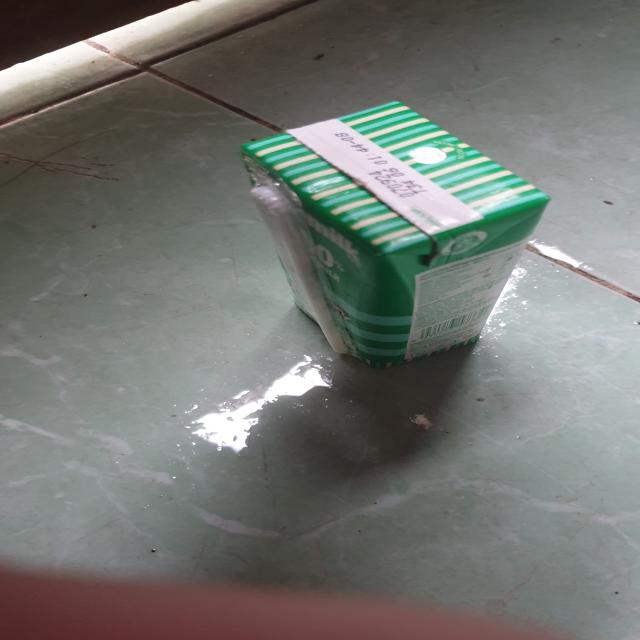Vina: (238, 101, 551, 368)
